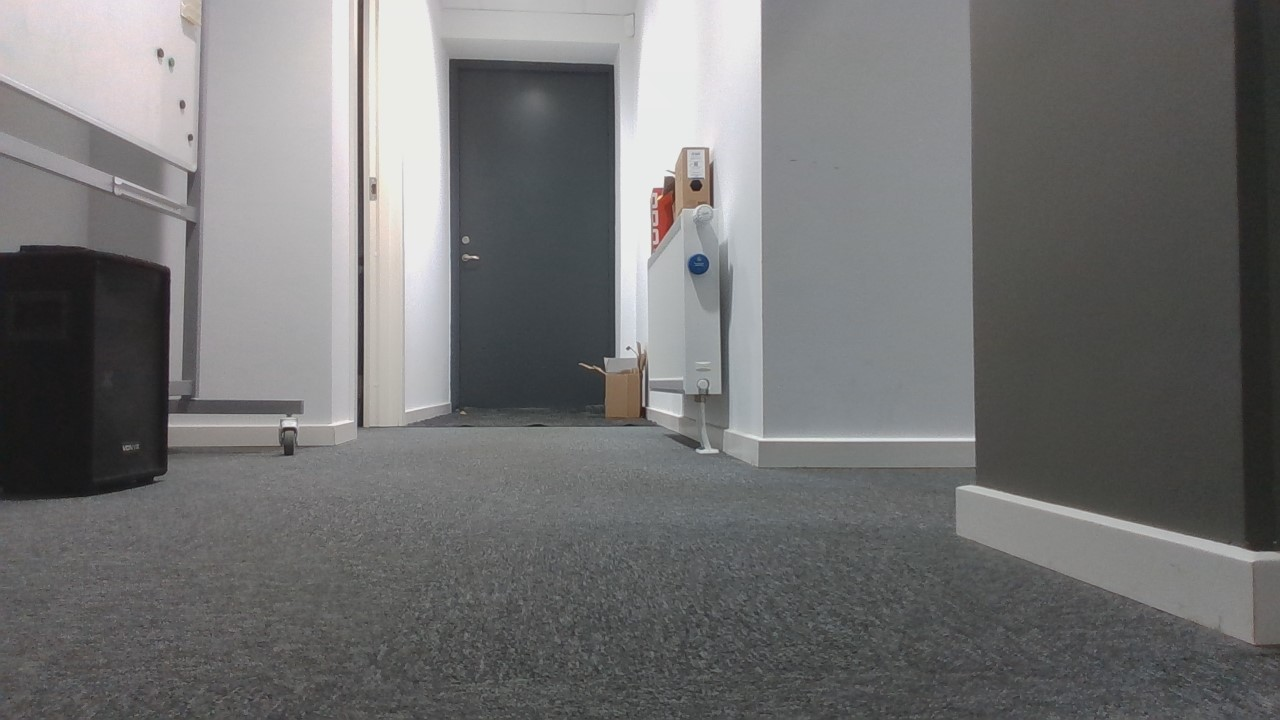alfa: (686, 250, 710, 279)
